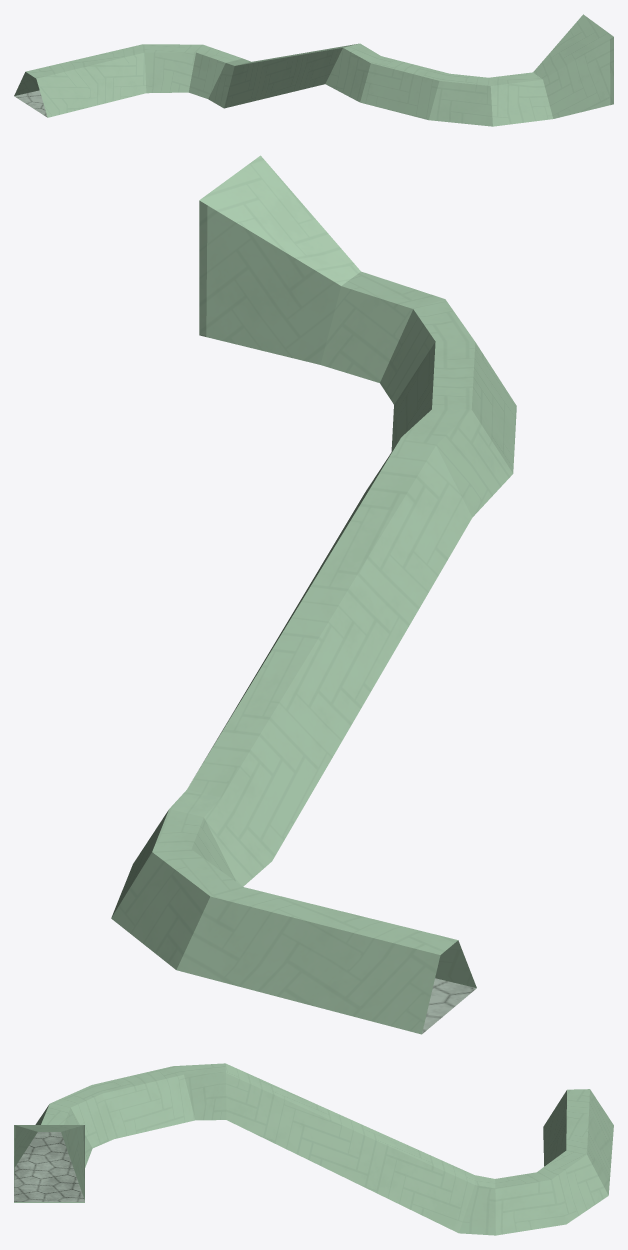
Rendered from LevelTransition2-3.fbx.
The picture shows the model from 3 angles, top to bottom: view 1: azimuth 30°, elevation 25°; view 2: azimuth 150°, elevation 25°; view 3: azimuth 270°, elevation 25°; orthographic projection. The views are drawn at different scales.
Visible parts, largest first — view 1: LevelTransition2-3; view 2: LevelTransition2-3; view 3: LevelTransition2-3.
Part boxes in pixels (x1,y1,x2,y2): LevelTransition2-3: (14, 14, 613, 126); LevelTransition2-3: (111, 155, 516, 1034); LevelTransition2-3: (14, 1063, 613, 1235).
Size of the model in its own units: 7338 by 3430 by 9699.
